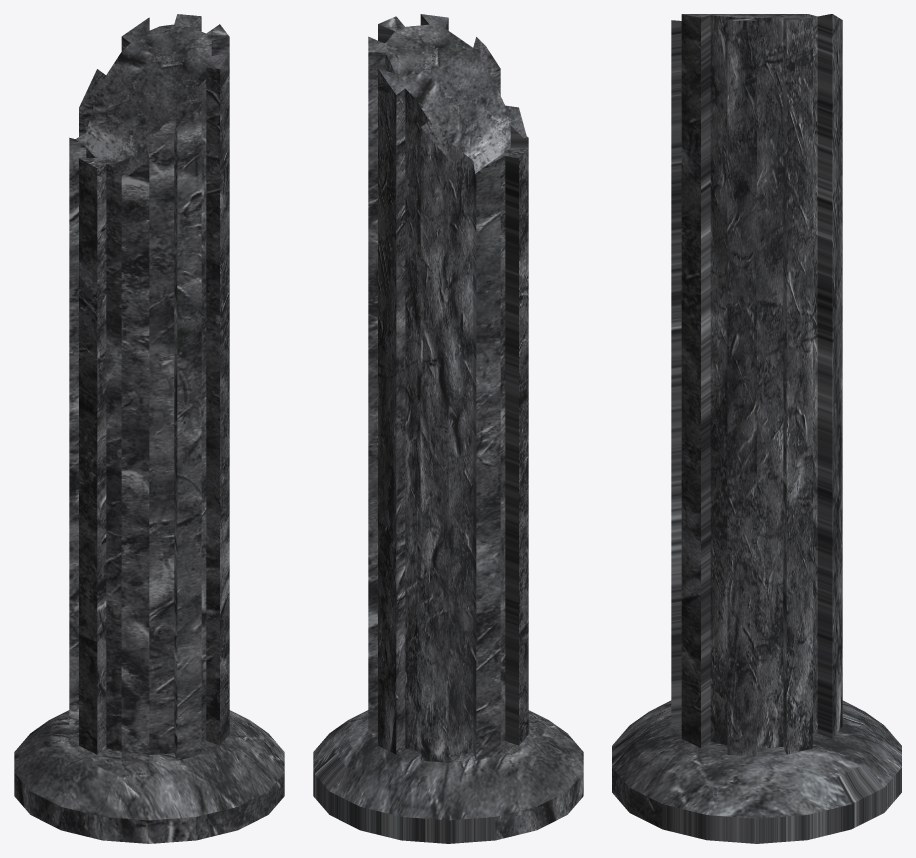
Rendered from Coloumn_02.DAE.
3 views of the same model, side by side, from view 1: azimuth 30°, elevation 25°; view 2: azimuth 150°, elevation 25°; view 3: azimuth 270°, elevation 25° (orthographic). The views are drawn at different scales.
Parts seen in each view (by area): view 1: Column 003; view 2: Column 003; view 3: Column 003.
Part boxes in pixels (x1,y1,x2,y2): Column 003: [14, 14, 284, 843]; Column 003: [313, 14, 583, 843]; Column 003: [612, 14, 901, 843].
Size of the model in its own units: 16.9 by 50.54 by 16.65.
Materials: 1 (1 with a texture image).
